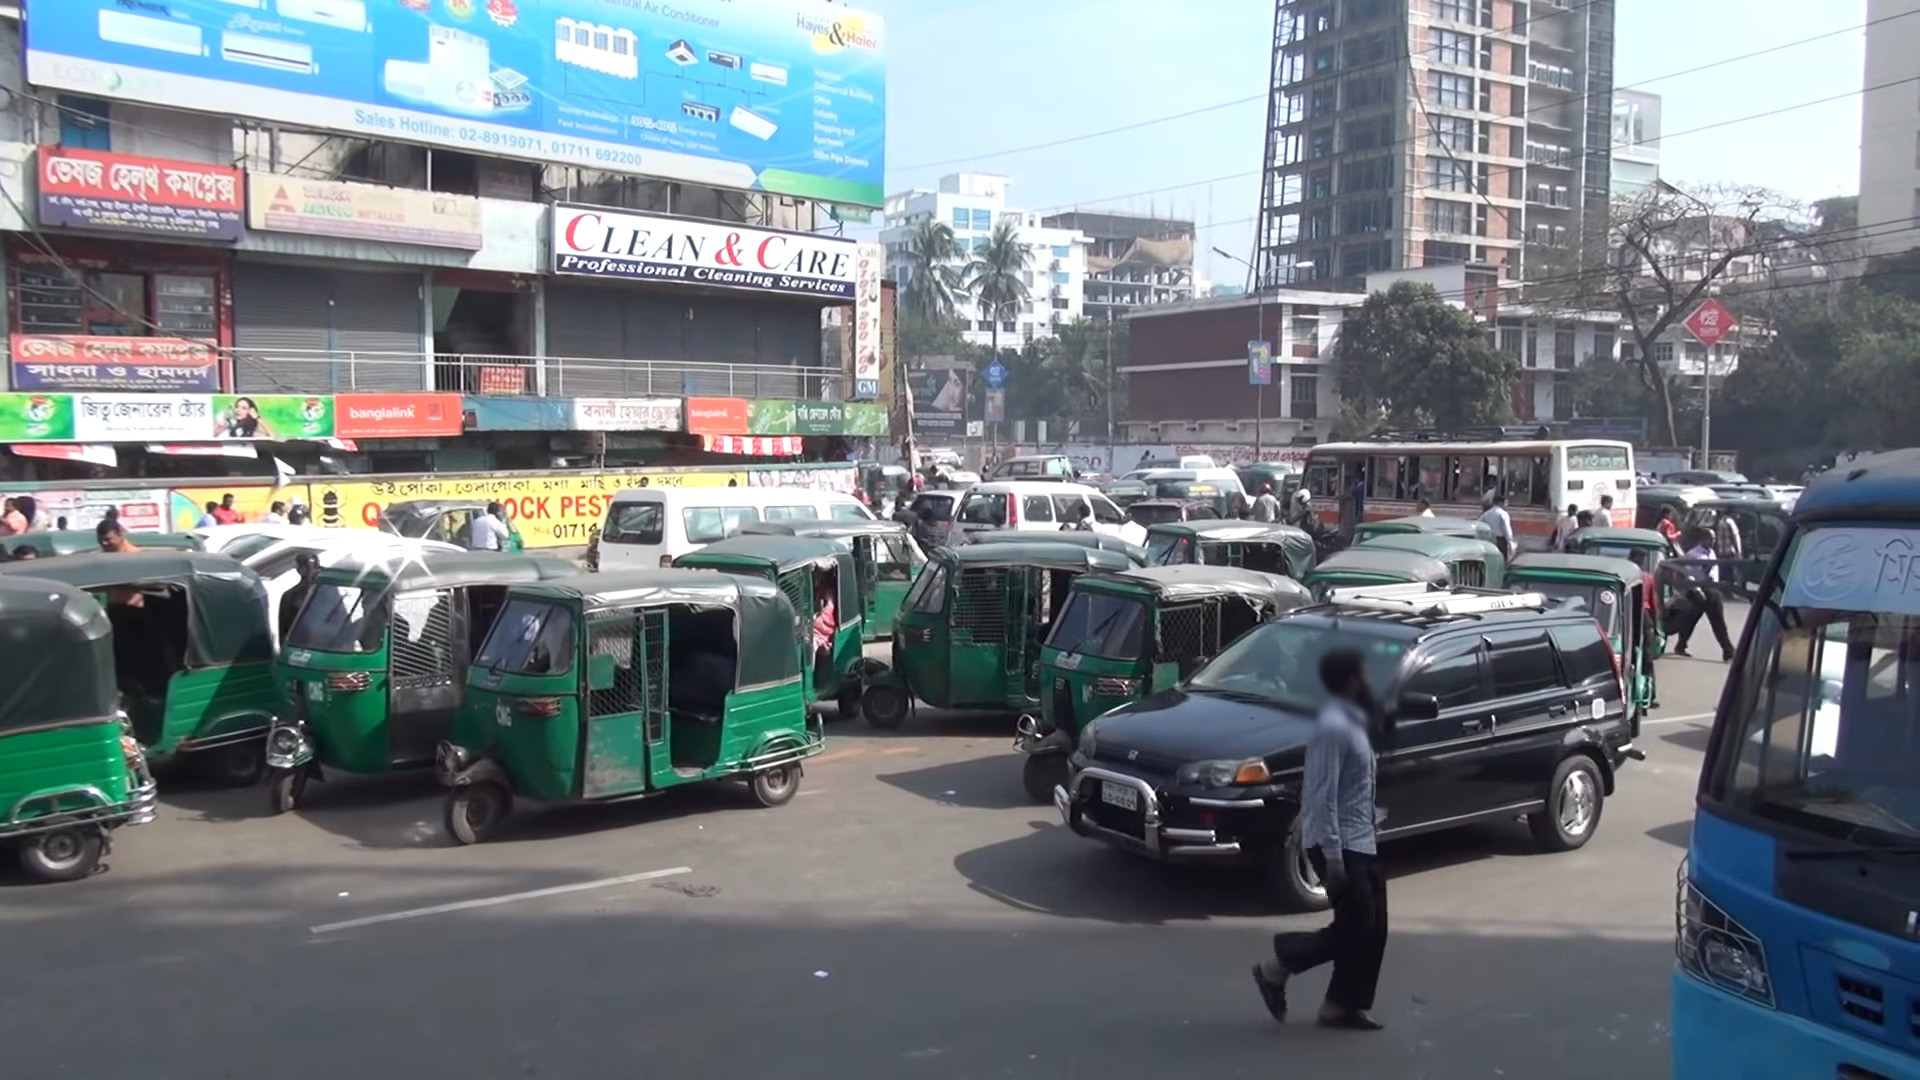bus: (1662, 451, 1920, 1077), (1292, 425, 1640, 545)
car: (1055, 582, 1648, 914), (589, 489, 886, 584), (951, 484, 1147, 543)
cng: (433, 570, 832, 849), (262, 555, 584, 818), (1011, 566, 1315, 803), (1, 551, 272, 787), (858, 545, 1139, 731), (1, 578, 164, 874), (676, 531, 862, 716), (1503, 553, 1662, 727), (1691, 495, 1788, 595), (1145, 520, 1324, 574), (380, 501, 531, 547), (1353, 516, 1497, 559)
